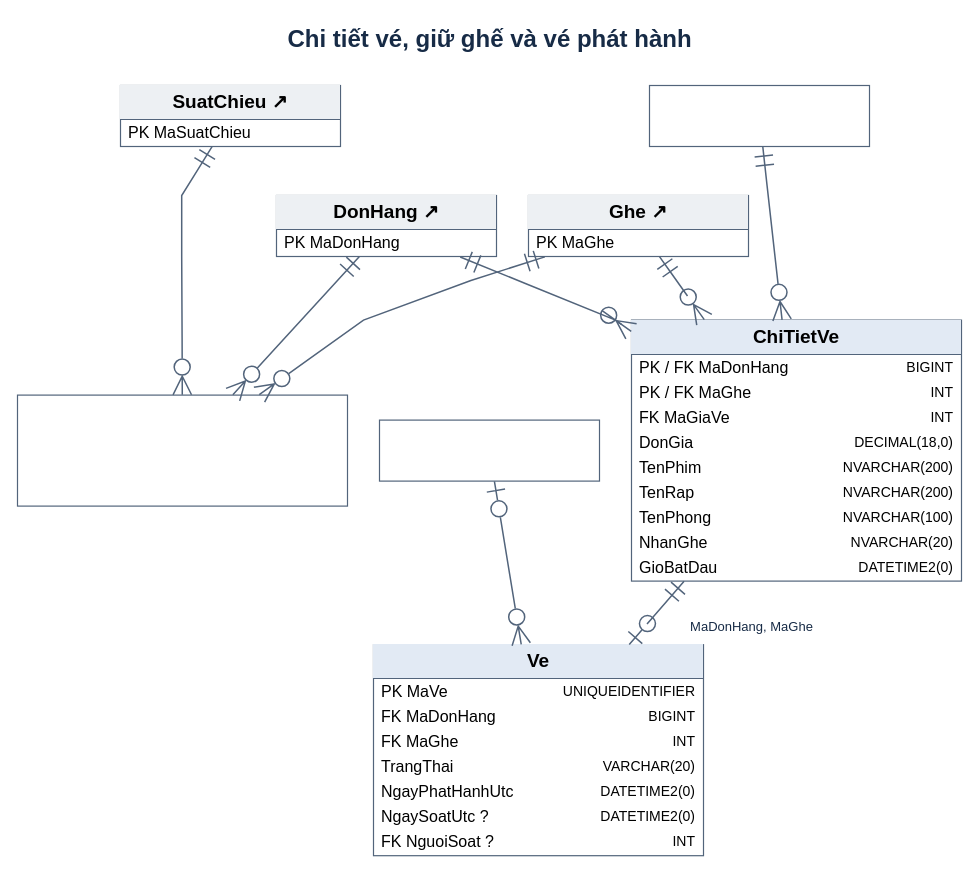
Image size: 980x873. Some labels were removed from this diagram. Here are the shapes that lost their labels. From the top down, the centre of each, then its label:
the point at 759,115: GiaVe ↗ PK MaGiaVe
the point at 182,450: GiuGhe PK / FK MaSuatChieu INT PK / FK MaGhe INT FK MaDonHang BIGINT
the point at 489,450: TaiKhoan ↗ PK MaTaiKhoan
